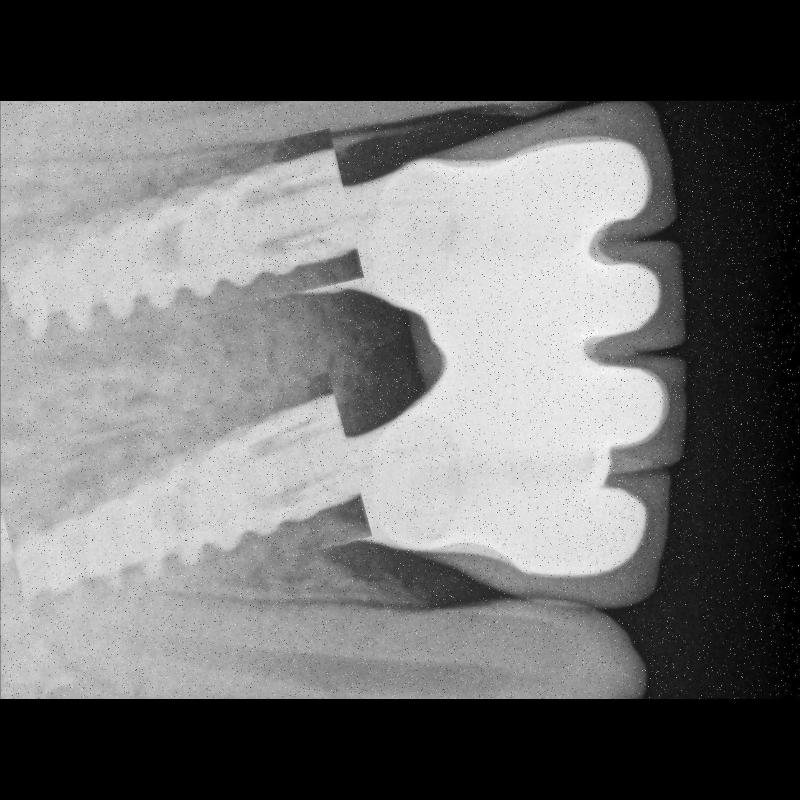ADIN: (0, 394, 364, 606), (1, 146, 358, 338)
